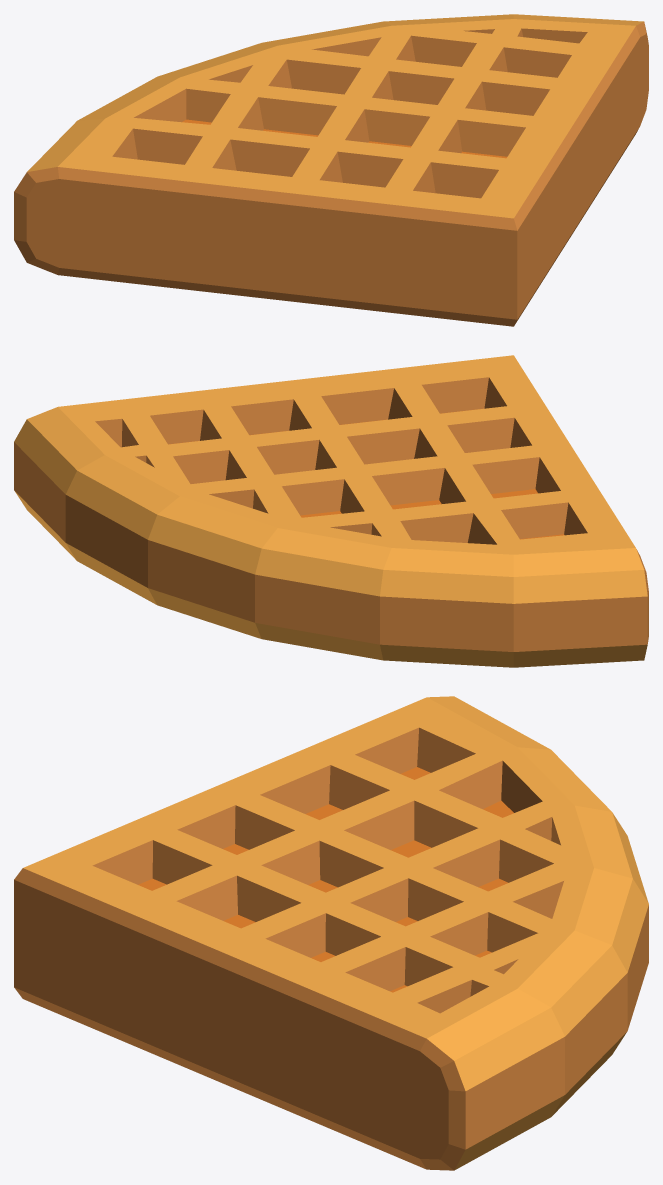
The model's file is Waffle_One_Piece.glb.
The picture shows the model from 3 angles, top to bottom: view 1: azimuth 30°, elevation 25°; view 2: azimuth 150°, elevation 25°; view 3: azimuth 270°, elevation 25°; orthographic projection. The views are drawn at different scales.
Parts seen in each view (by area): view 1: Waffle_One_Piece; view 2: Waffle_One_Piece; view 3: Waffle_One_Piece.
Part boxes in pixels (x1,y1,x2,y2): Waffle_One_Piece: (14, 14, 648, 326); Waffle_One_Piece: (14, 355, 648, 667); Waffle_One_Piece: (14, 696, 648, 1170).
Bounding box in the file's own units: 0.093 × 0.0152 × 0.0667.
Materials: 1 (1 with a texture image).
